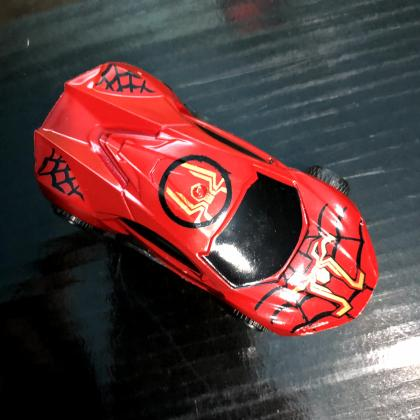Car: (34, 62, 379, 338)
